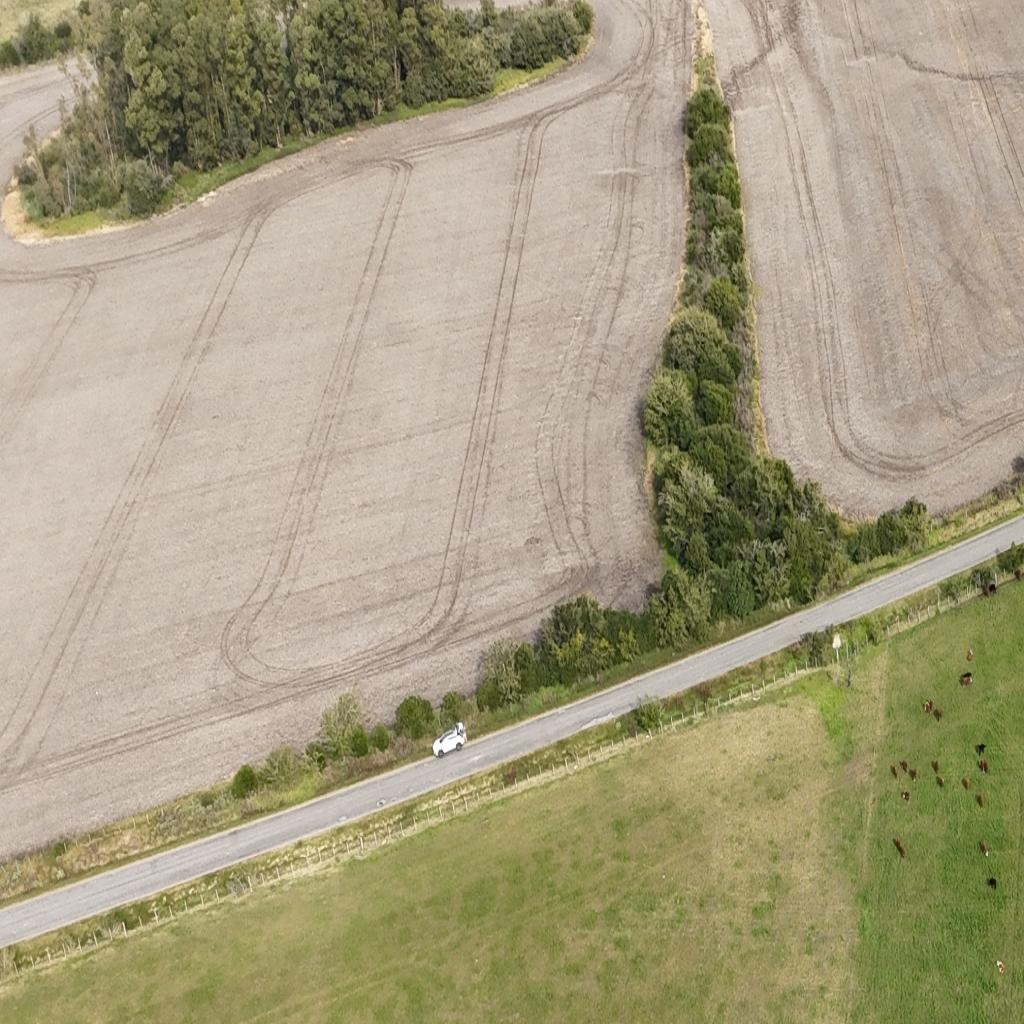cow: (994, 956, 1009, 980), (502, 767, 516, 788), (989, 582, 1000, 598), (899, 844, 909, 861), (960, 673, 972, 687), (981, 841, 990, 859), (921, 700, 931, 716), (975, 743, 986, 757), (892, 835, 902, 850), (892, 762, 901, 778), (926, 696, 936, 710), (987, 876, 997, 890), (982, 585, 991, 600), (933, 706, 942, 721), (962, 777, 971, 792), (932, 758, 940, 774), (983, 756, 990, 774), (935, 775, 945, 787), (909, 767, 917, 782), (977, 756, 984, 773), (900, 759, 908, 773), (976, 794, 984, 808), (901, 791, 910, 802), (966, 649, 973, 663), (1018, 567, 1024, 580)
